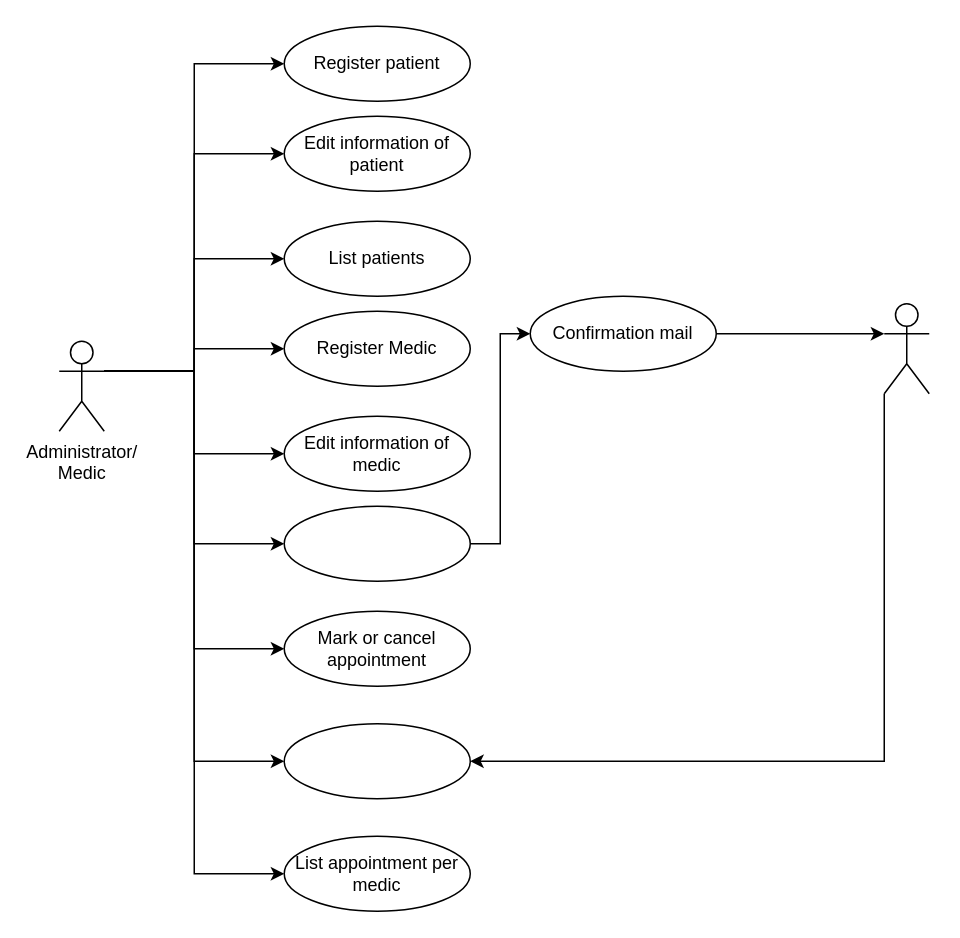
Image size: 960x938. Some labels were removed from this diagram. The centre of each missing label's shape, as x and y in pixels:
Create appointment: the point at 376,543
List appointment per patient: the point at 376,760
Patient: the point at 906,348
